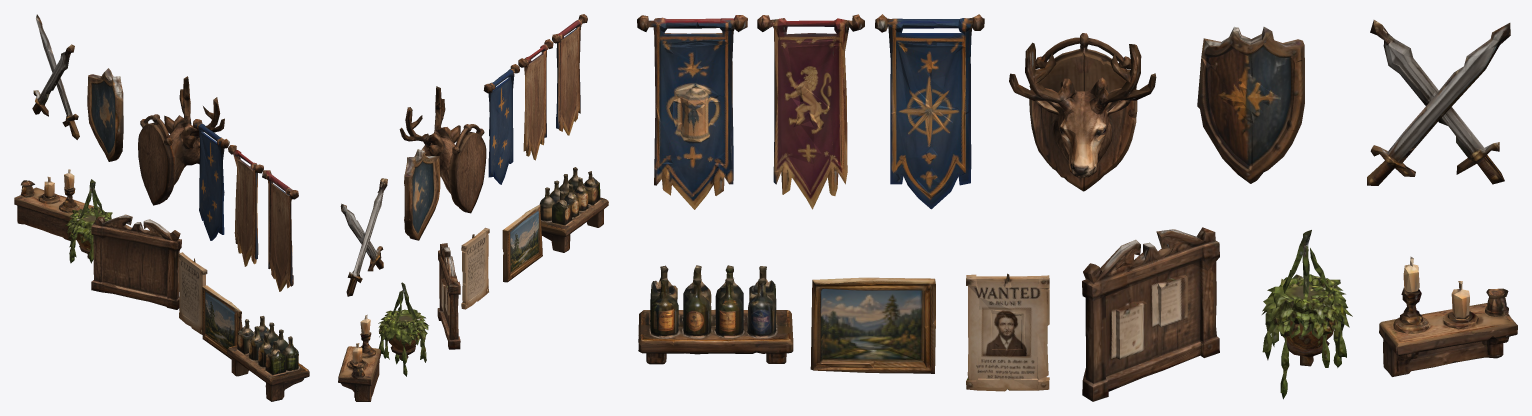
Rendered from tripo_convert_a51a88c4-5e07-4cb2-a522-38a71ade1d77.obj.
3 views of the same model, side by side, from view 1: azimuth 30°, elevation 25°; view 2: azimuth 150°, elevation 25°; view 3: azimuth 270°, elevation 25° (orthographic). The views are drawn at different scales.
Visible parts, largest first — view 1: tripo_part_6, tripo_part_1, tripo_part_0, tripo_part_3, tripo_part_8, tripo_part_5, tripo_part_4, tripo_part_7, tripo_part_11, tripo_part_10, tripo_part_9, tripo_part_2; view 2: tripo_part_1, tripo_part_0, tripo_part_8, tripo_part_5, tripo_part_4, tripo_part_7, tripo_part_2, tripo_part_11, tripo_part_3, tripo_part_10, tripo_part_6, tripo_part_9; view 3: tripo_part_6, tripo_part_5, tripo_part_4, tripo_part_1, tripo_part_8, tripo_part_7, tripo_part_11, tripo_part_0, tripo_part_10, tripo_part_3, tripo_part_9, tripo_part_2.
Part boxes in pixels (bbox=[...]): tripo_part_6: bbox=[91, 214, 181, 309]; tripo_part_1: bbox=[138, 76, 224, 205]; tripo_part_0: bbox=[226, 316, 309, 401]; tripo_part_3: bbox=[14, 169, 93, 240]; tripo_part_8: bbox=[87, 68, 123, 161]; tripo_part_5: bbox=[193, 119, 229, 240]; tripo_part_4: bbox=[262, 170, 298, 291]; tripo_part_7: bbox=[228, 145, 263, 266]; tripo_part_11: bbox=[202, 285, 242, 359]; tripo_part_10: bbox=[178, 252, 207, 334]; tripo_part_9: bbox=[32, 14, 79, 139]; tripo_part_2: bbox=[65, 179, 112, 263]; tripo_part_1: bbox=[399, 86, 486, 213]; tripo_part_0: bbox=[539, 167, 608, 252]; tripo_part_8: bbox=[404, 149, 440, 240]; tripo_part_5: bbox=[483, 64, 519, 184]; tripo_part_4: bbox=[552, 14, 587, 135]; tripo_part_7: bbox=[518, 39, 553, 160]; tripo_part_2: bbox=[378, 282, 428, 376]; tripo_part_11: bbox=[502, 204, 542, 282]; tripo_part_3: bbox=[338, 314, 380, 401]; tripo_part_10: bbox=[461, 227, 489, 309]; tripo_part_6: bbox=[437, 243, 460, 349]; tripo_part_9: bbox=[340, 178, 387, 296]; tripo_part_6: bbox=[1082, 227, 1219, 401]; tripo_part_5: bbox=[875, 14, 984, 209]; tripo_part_4: bbox=[637, 15, 747, 209]; tripo_part_1: bbox=[1009, 33, 1156, 191]; tripo_part_8: bbox=[1197, 26, 1304, 183]; tripo_part_7: bbox=[757, 14, 864, 209]; tripo_part_11: bbox=[810, 277, 935, 373]; tripo_part_0: bbox=[638, 265, 793, 364]; tripo_part_10: bbox=[966, 273, 1049, 391]; tripo_part_3: bbox=[1379, 256, 1517, 376]; tripo_part_9: bbox=[1367, 20, 1510, 185]; tripo_part_2: bbox=[1262, 230, 1352, 399].
Bounding box in the file's own units: 0.1869 × 0.4692 × 0.9781.
Materials: 1 (1 with a texture image).
